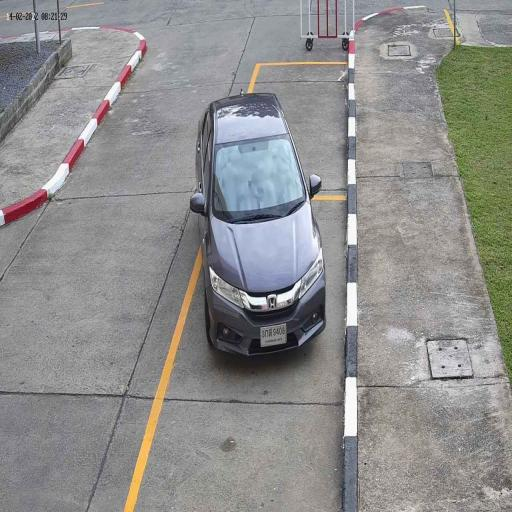car: (192, 88, 328, 360)
